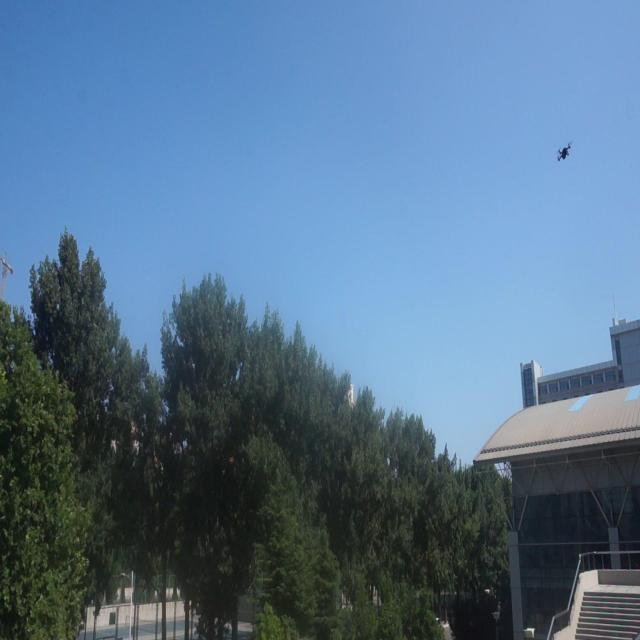drone: (553, 138, 572, 166)
